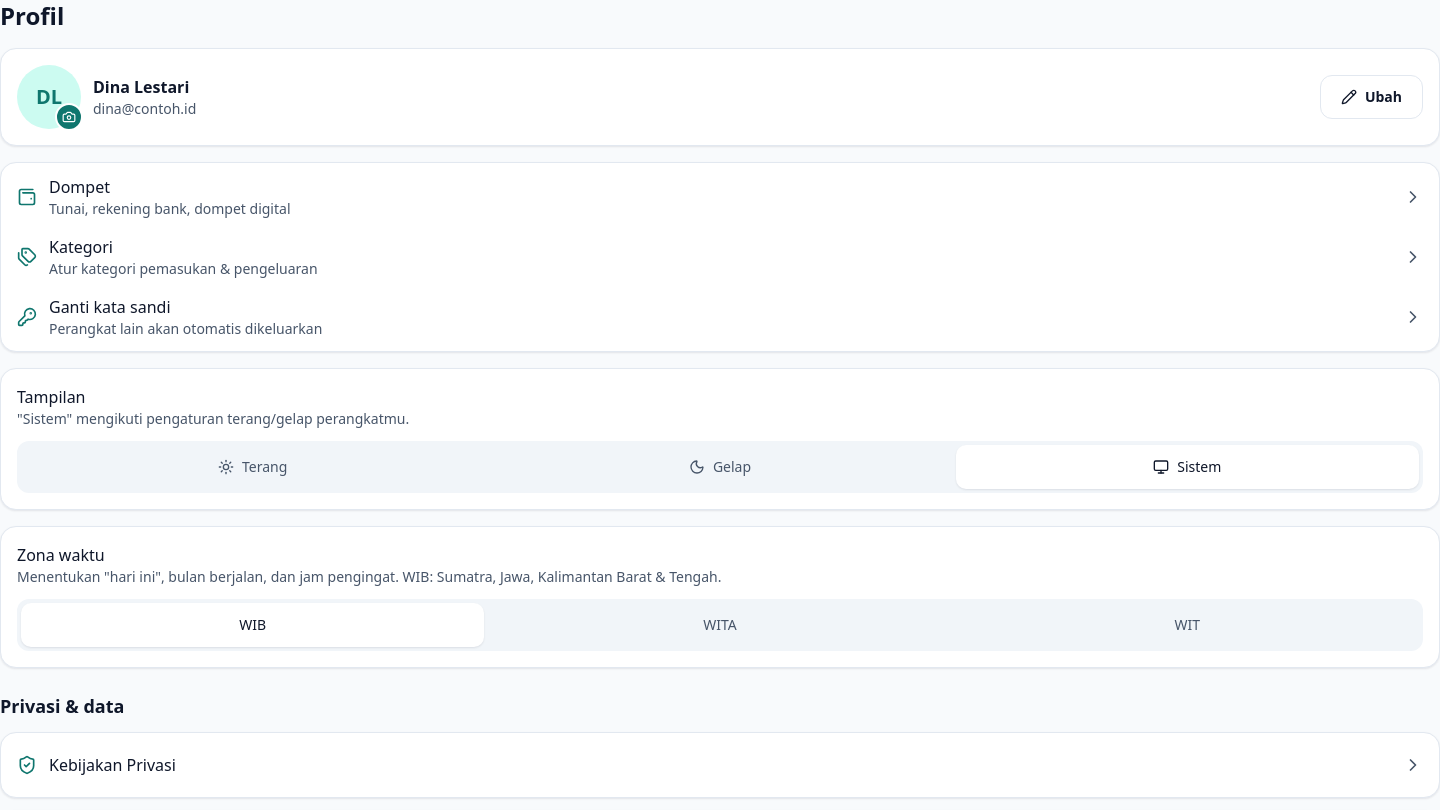
Test: ProfilePage › mengganti email memunculkan kolom kata sandi dan meneruskan error server
Click the button "Ubah".
click(1371, 97)  # box [1320,75,1423,119]
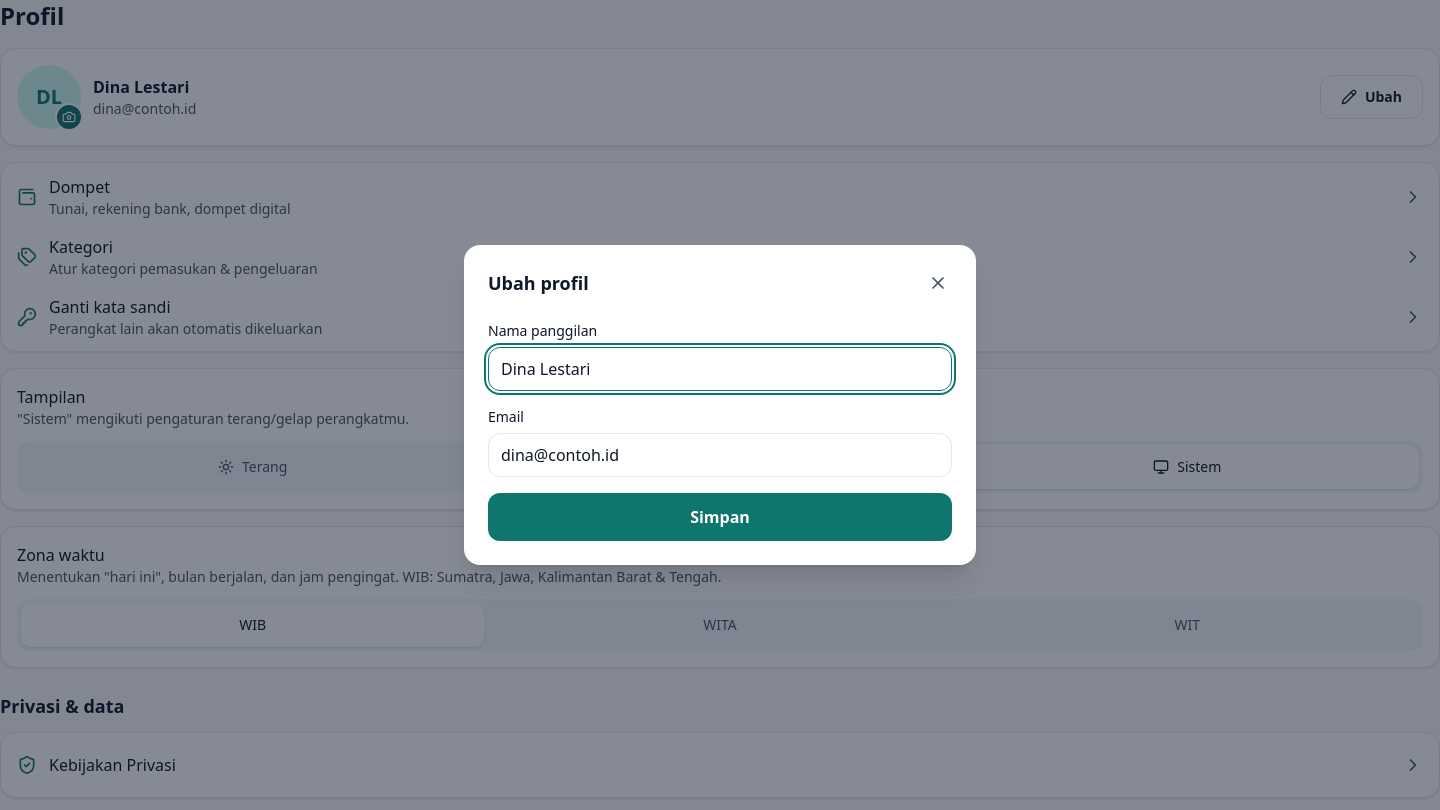
Clear the field labelled "Email" at (720, 455), box [488,433,952,477]
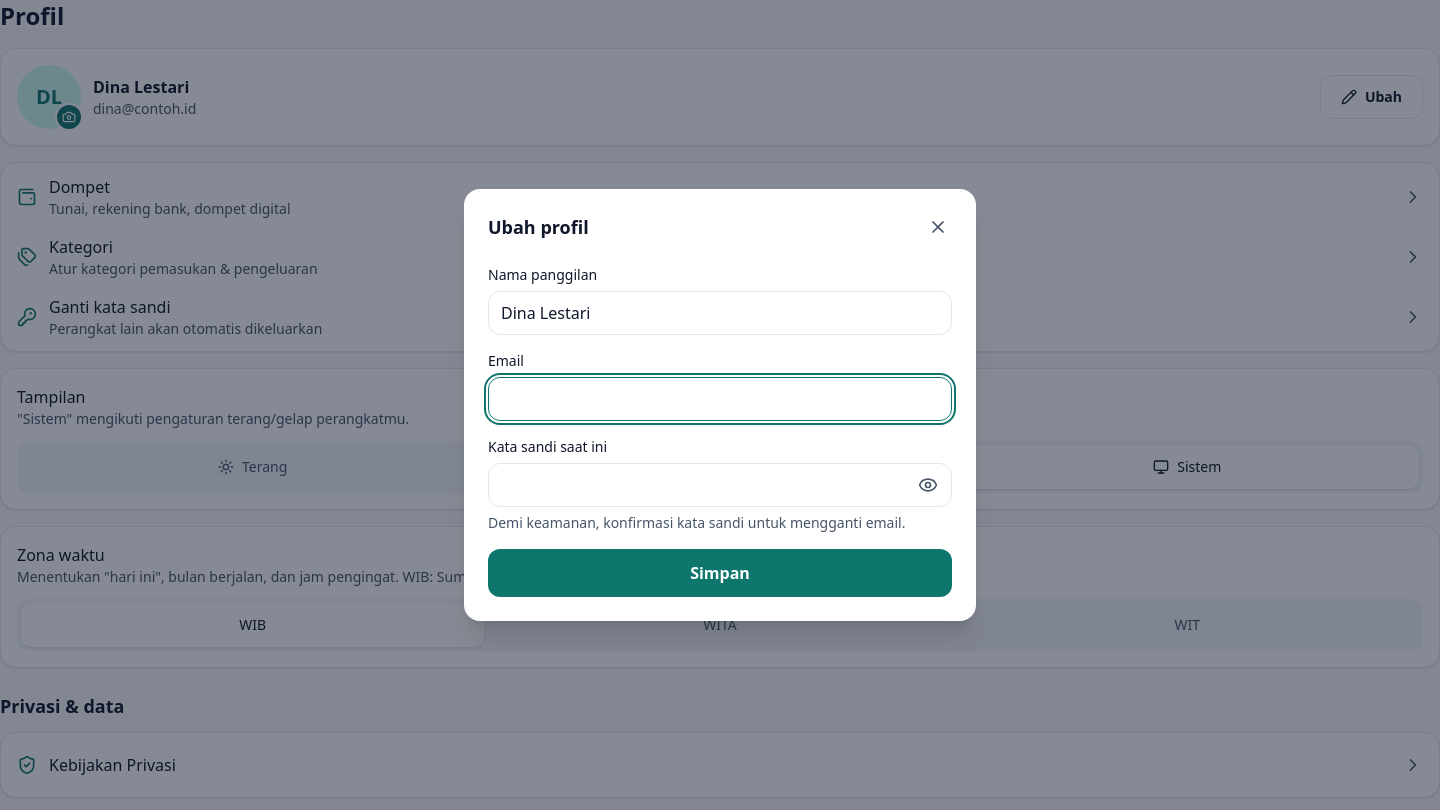
Type "baru@contoh.id" into the field labelled "Email".
click(720, 399); type("baru@contoh.id")  # box [488,377,952,421]
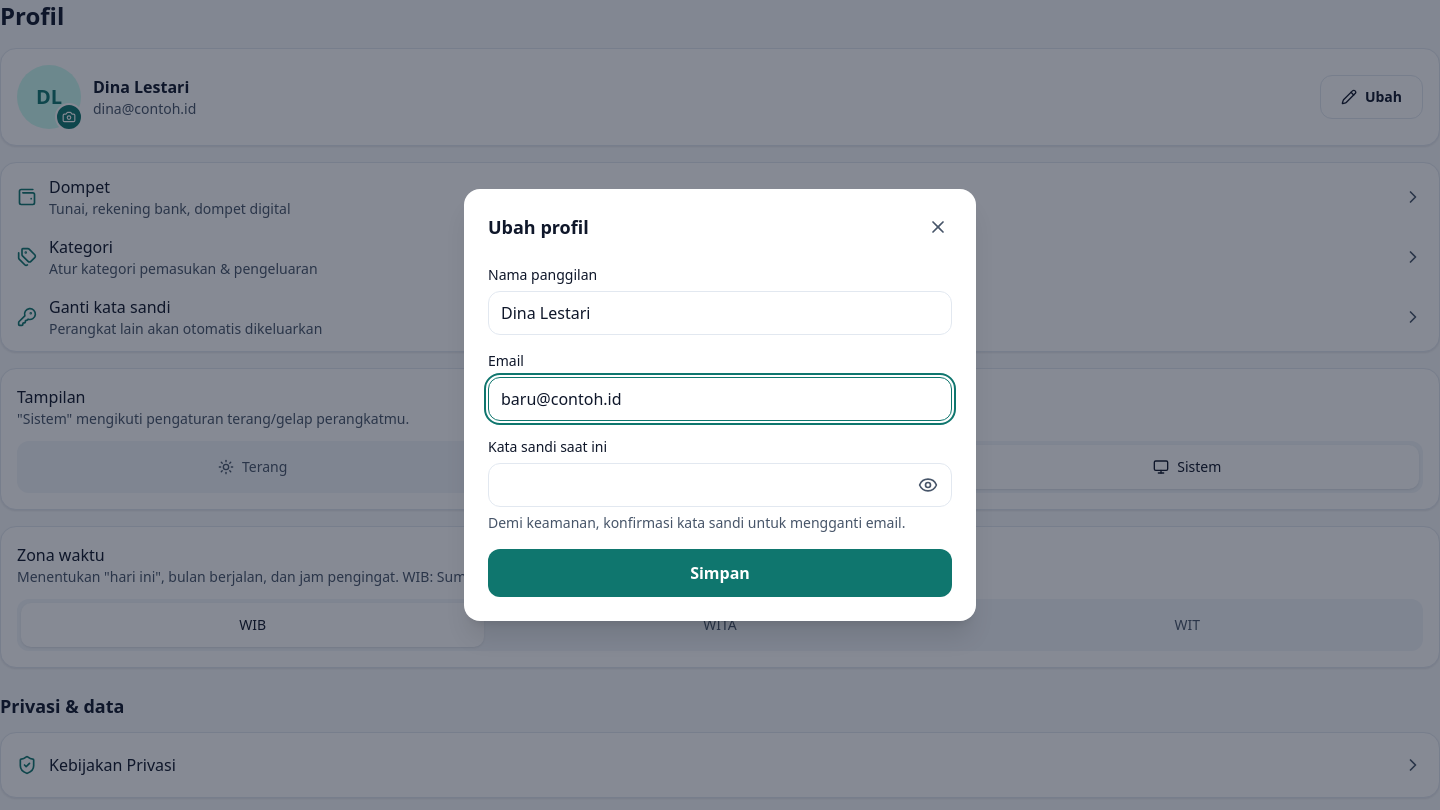
Click the button "Simpan".
click(720, 573)  # box [488,549,952,597]
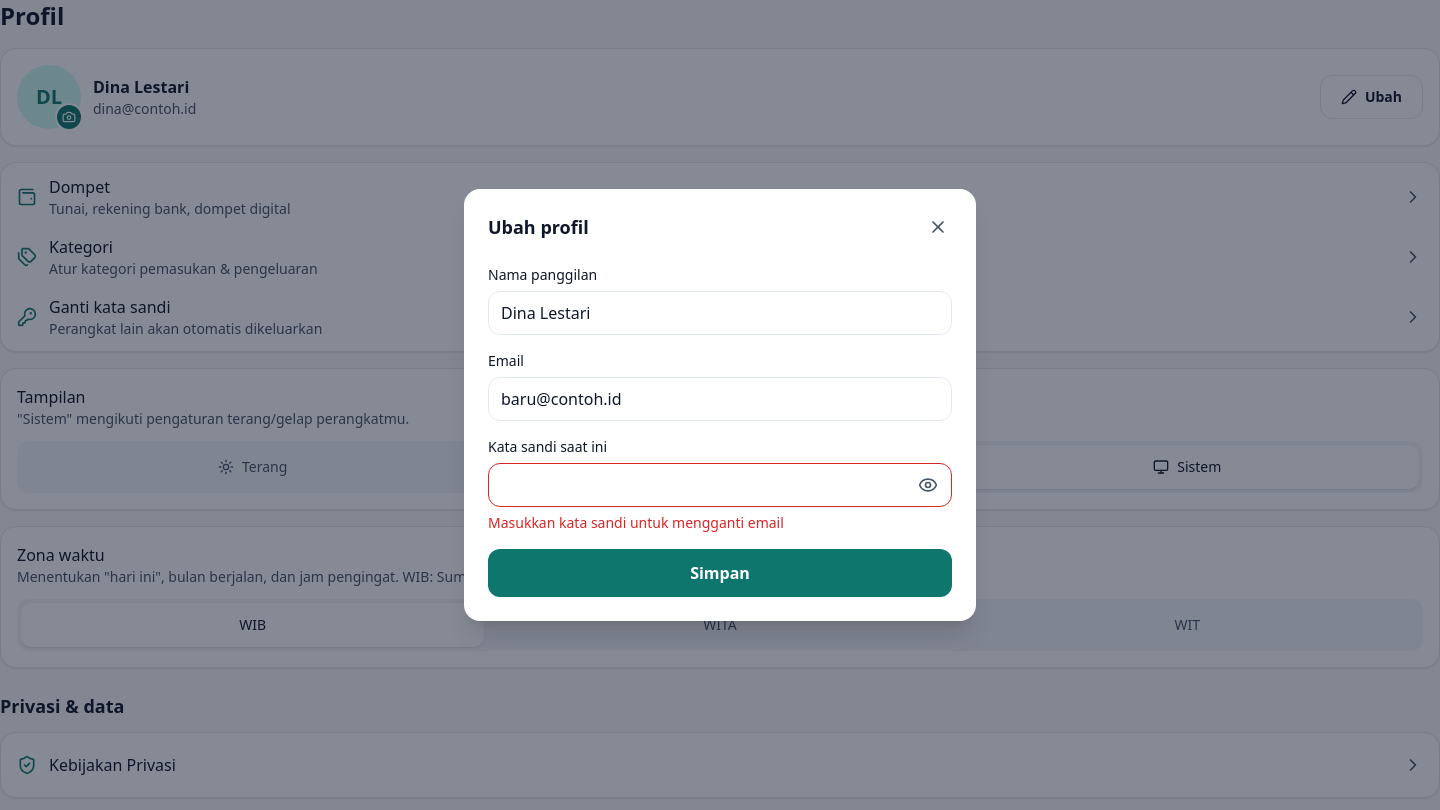
Now the text "Masukkan kata sandi untuk mengganti email" is shown, box [488,513,784,532]
Type "salahsekali" into the password field labelled "Kata sandi saat ini".
click(720, 485); type("salahsekali")  # box [488,463,952,507]
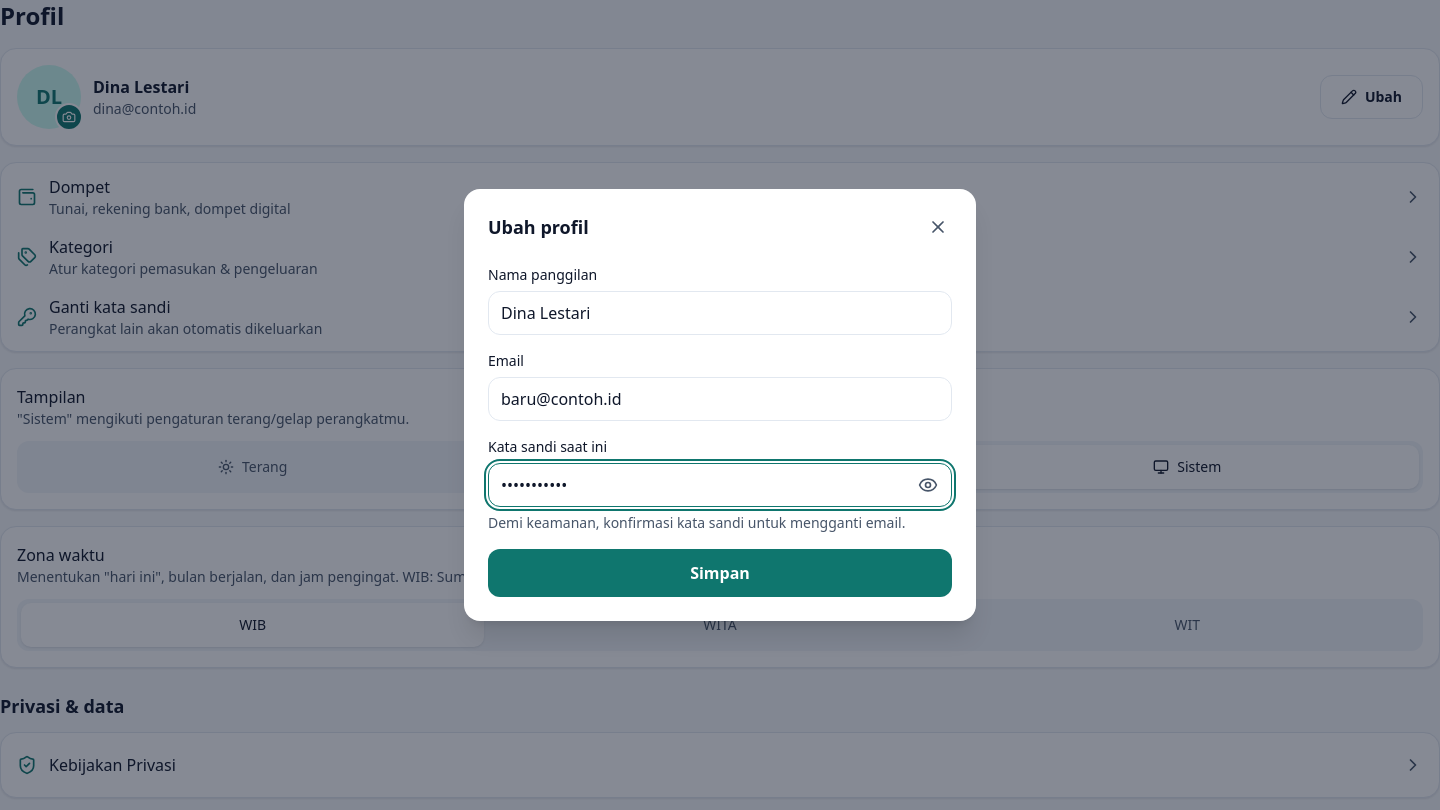
Click the button "Simpan".
click(720, 573)  # box [488,549,952,597]
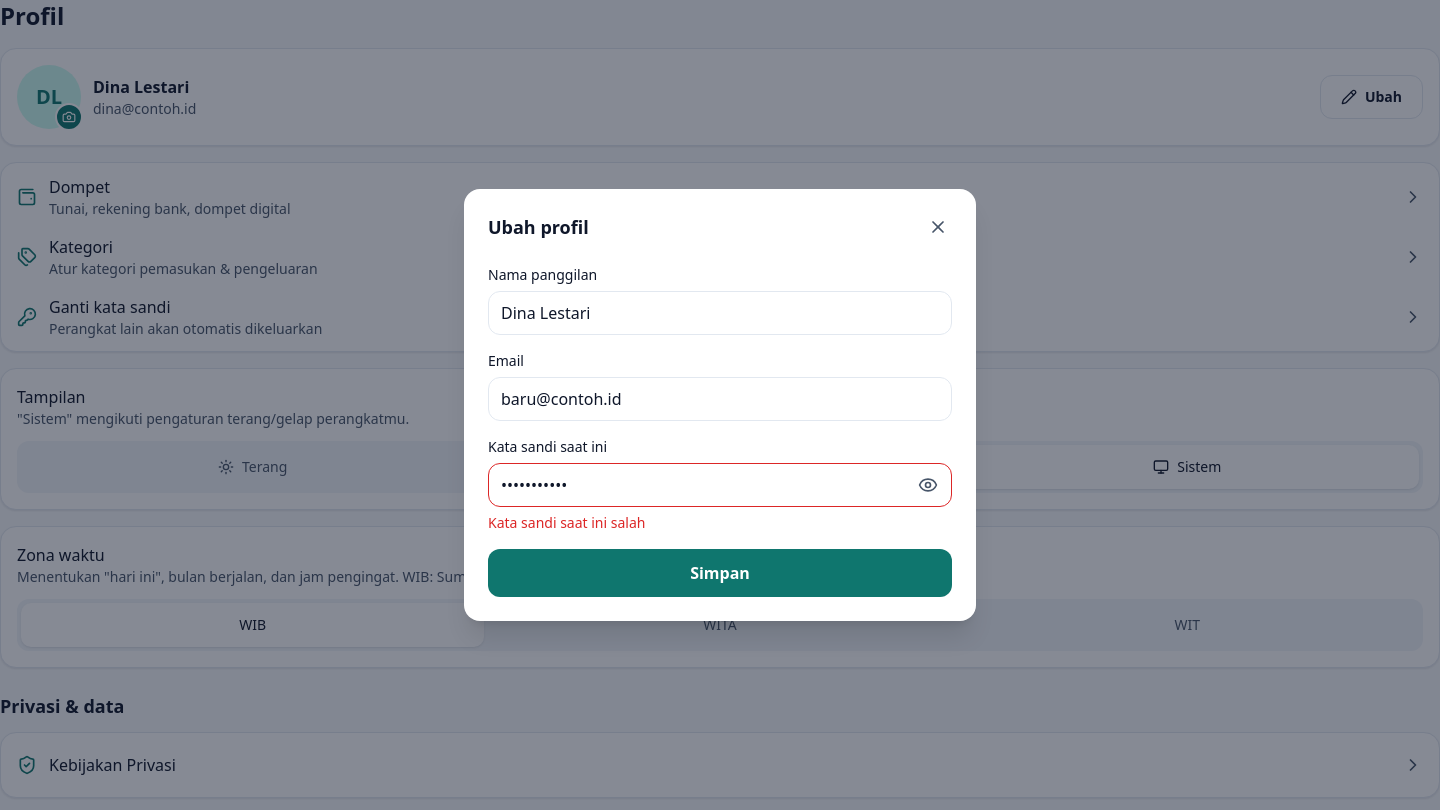
Now the text "Kata sandi saat ini salah" is shown, box [488,513,646,532]
